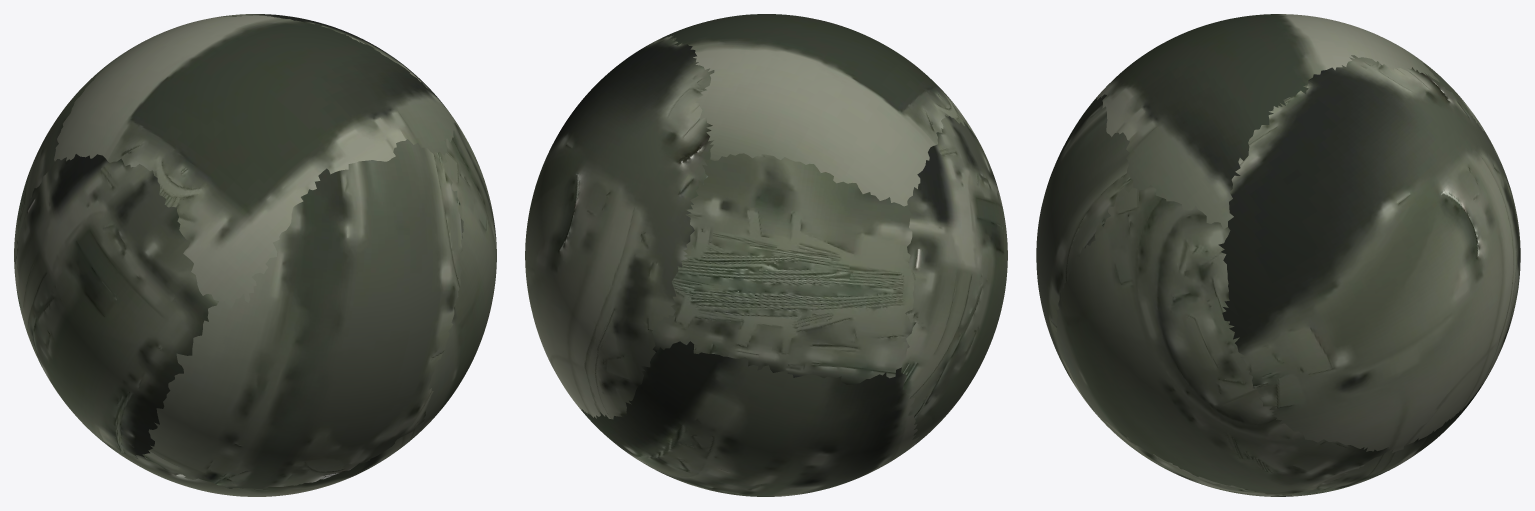
File: oeil-blackchristmas.glb
The picture shows the model from 3 angles, left to right: view 1: azimuth 30°, elevation 25°; view 2: azimuth 150°, elevation 25°; view 3: azimuth 270°, elevation 25°; orthographic projection.
Visible parts, largest first — view 1: node_0; view 2: node_0; view 3: node_0.
Boxes of the visible parts, <box> form: node_0: <box>14,14,496,496</box>; node_0: <box>525,14,1007,496</box>; node_0: <box>1036,14,1520,496</box>.
Bounding box in the file's own units: 1.2 × 1.2 × 1.2.
1 material, 1 textured.
